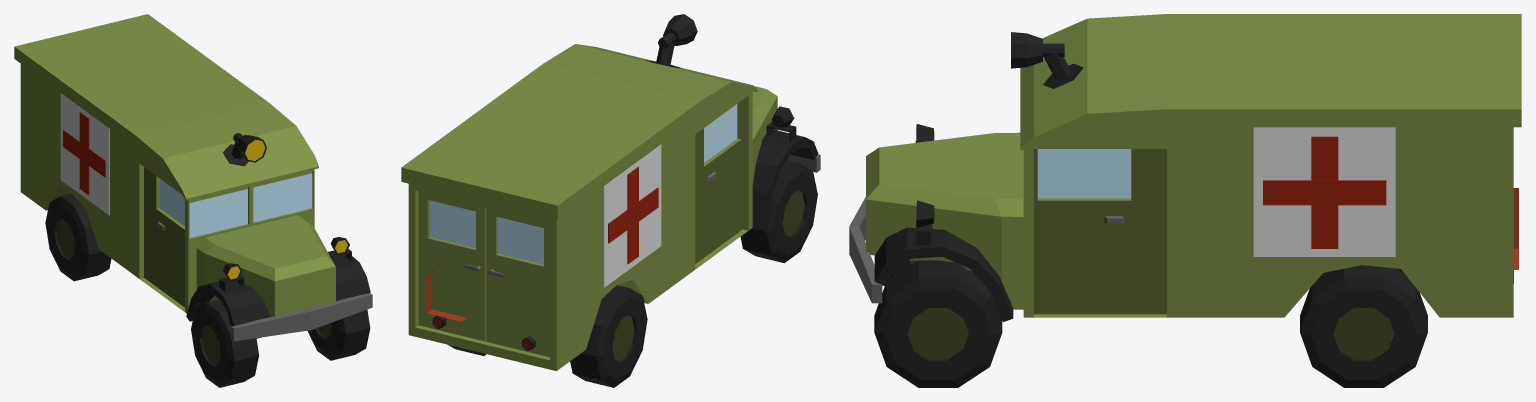
Rendered from Ambulance.glb.
3 renders of one model, left to right at view 1: azimuth 30°, elevation 25°; view 2: azimuth 150°, elevation 25°; view 3: azimuth 270°, elevation 25°, orthographic. The views are drawn at different scales.
Parts seen in each view (by area): view 1: Ambulance; view 2: Ambulance; view 3: Ambulance.
Part boxes in pixels (x1,y1,x2,y2): Ambulance: (14,14,372,387); Ambulance: (401,14,820,387); Ambulance: (849,14,1521,387).
Size of the model in its own units: 1.49 by 2.13 by 4.24.
